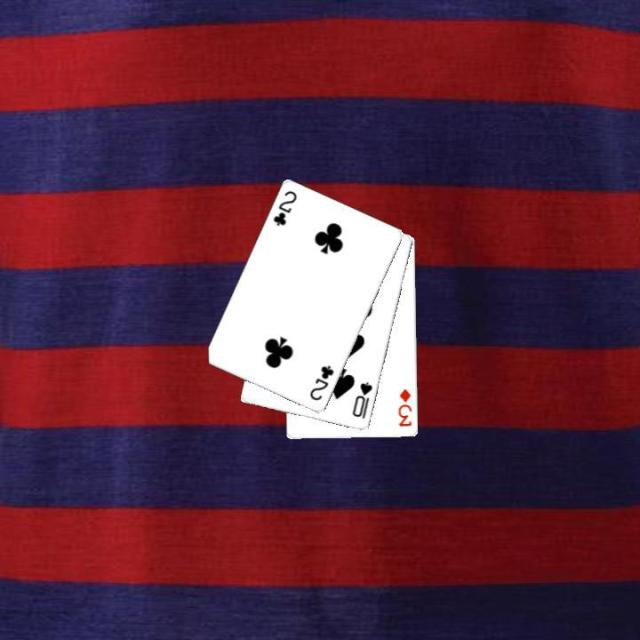10S: (348, 378, 374, 420)
2C: (269, 186, 299, 228), (306, 362, 336, 402)
3D: (395, 385, 414, 428)
